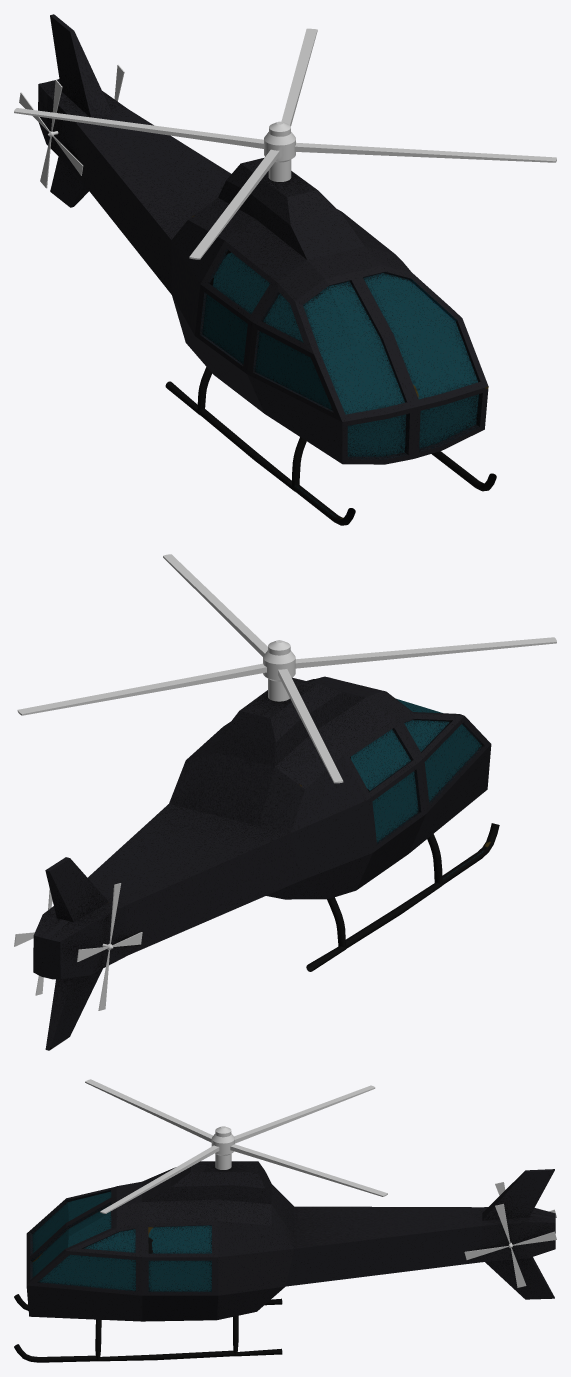
The model's file is anim_000020.obj.
3 renders of one model, top to bottom at view 1: azimuth 30°, elevation 25°; view 2: azimuth 150°, elevation 25°; view 3: azimuth 270°, elevation 25°, orthographic. The views are drawn at different scales.
Visible parts, largest first — view 1: Helicopter.007_Cylinder.008, Helicopter.001_Cylinder.001, Helicopter.004_Cylinder.005; view 2: Helicopter.007_Cylinder.008, Helicopter.001_Cylinder.001, Helicopter.004_Cylinder.005; view 3: Helicopter.007_Cylinder.008, Helicopter.001_Cylinder.001, Helicopter.003_Cylinder.004.
Part boxes in pixels (x1=…): Helicopter.007_Cylinder.008: x1=38, y1=14, x2=496, y2=525; Helicopter.001_Cylinder.001: x1=14, y1=28, x2=556, y2=259; Helicopter.004_Cylinder.005: x1=19, y1=79, x2=83, y2=188; Helicopter.007_Cylinder.008: x1=33, y1=676, x2=499, y2=1050; Helicopter.001_Cylinder.001: x1=17, y1=554, x2=556, y2=783; Helicopter.004_Cylinder.005: x1=77, y1=883, x2=142, y2=1010; Helicopter.007_Cylinder.008: x1=14, y1=1161, x2=555, y2=1362; Helicopter.001_Cylinder.001: x1=85, y1=1079, x2=387, y2=1213; Helicopter.003_Cylinder.004: x1=464, y1=1204, x2=556, y2=1287.
Bounding box in the file's own units: 4.38 × 3.21 × 7.51.
